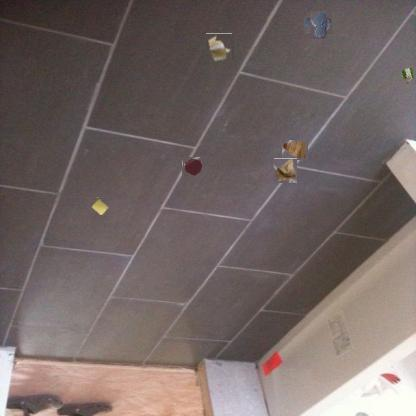dirty: (206, 34, 233, 62), (273, 159, 298, 183), (282, 140, 308, 160), (398, 65, 416, 85), (89, 197, 109, 215)
liquid: (306, 13, 330, 37), (182, 158, 202, 178)
